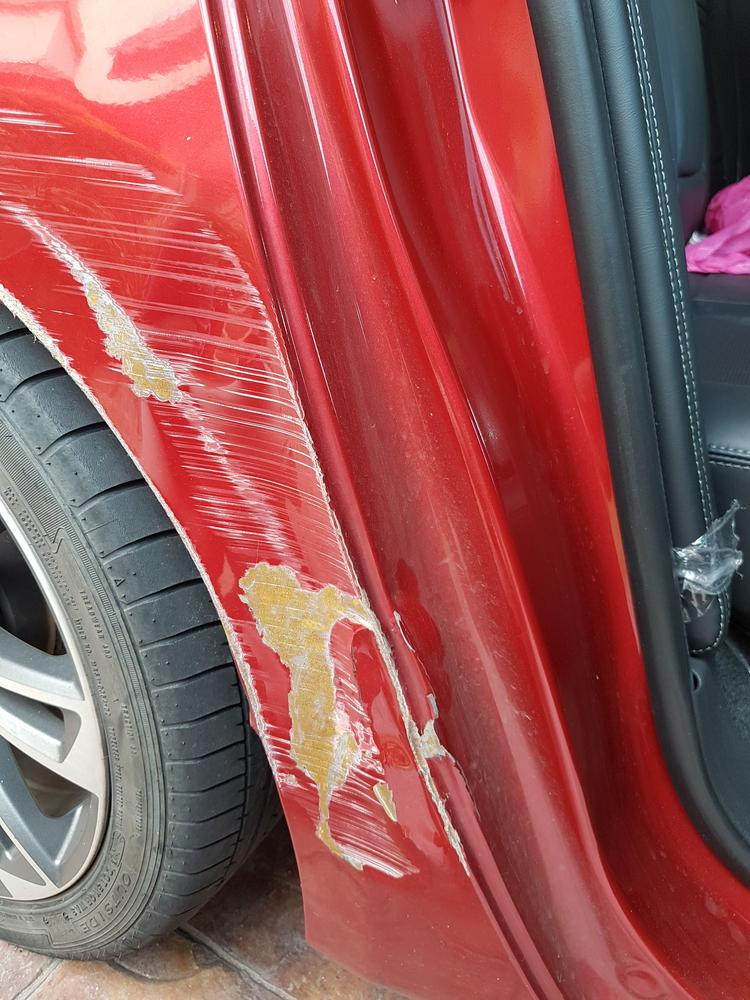scratch: (0, 93, 431, 878)
